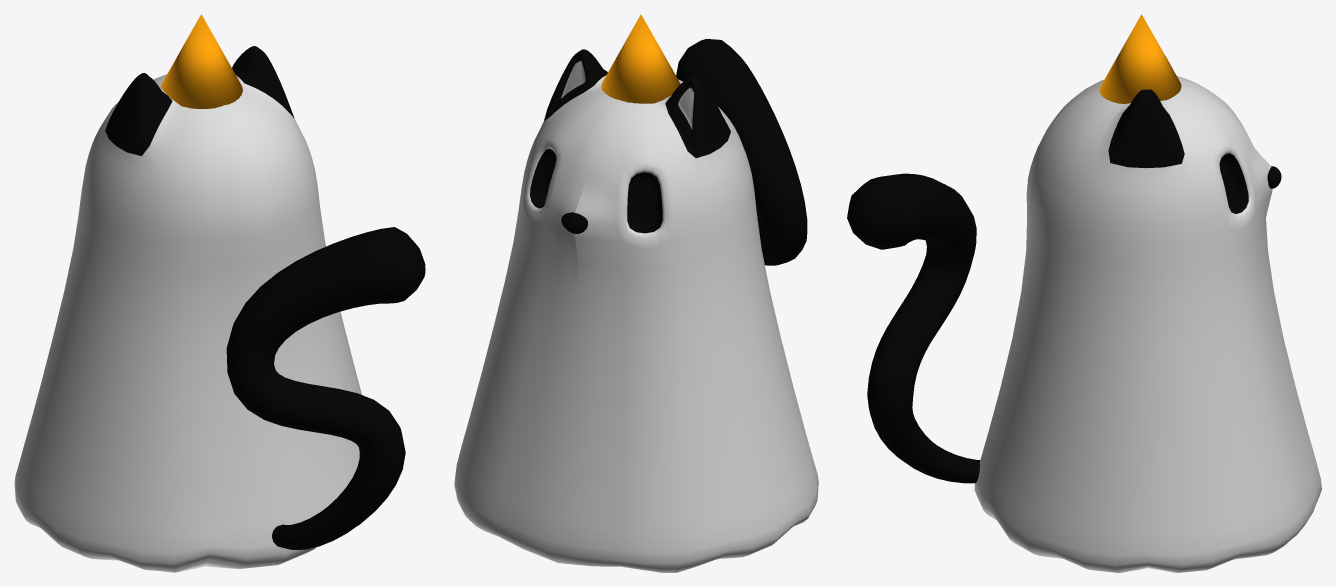
File: ghost_yellow.glb
3 views of the same model, side by side, from view 1: azimuth 30°, elevation 25°; view 2: azimuth 150°, elevation 25°; view 3: azimuth 270°, elevation 25° (orthographic).
Parts seen in each view (by area): view 1: Sphere, BezierCurve, Cone; view 2: Sphere, BezierCurve, Cone; view 3: Sphere, BezierCurve, Cone.
Boxes of the visible parts, x1,y1,x2,y2 form: Sphere: (14, 46, 361, 572); BezierCurve: (226, 227, 425, 549); Cone: (161, 14, 242, 108); Sphere: (454, 49, 818, 572); BezierCurve: (676, 39, 807, 265); Cone: (601, 14, 680, 103); Sphere: (974, 57, 1321, 572); BezierCurve: (847, 173, 980, 483); Cone: (1099, 14, 1181, 103).
Bounding box in the file's own units: 4.1 × 6.06 × 5.25.
